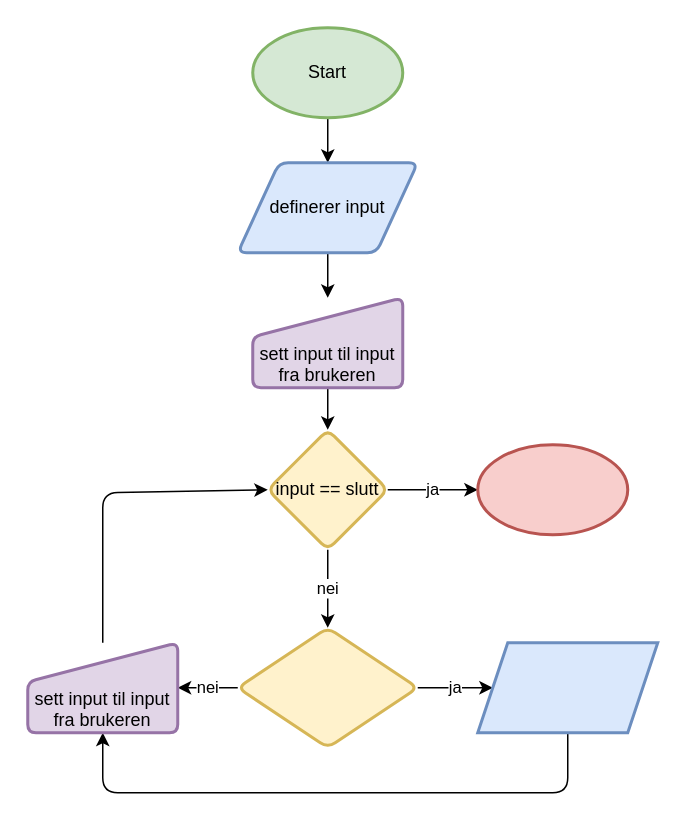
Some shapes in this 684 by 831 pixel diagram are drawn without their labels. Here are the shapes that lost their labels. From the top down, the centre of each, then its label:
At (x=552, y=489): "avslutt".
At (x=327, y=687): "hvis input i kommandoer".
At (x=567, y=687): "utfør kommando".
